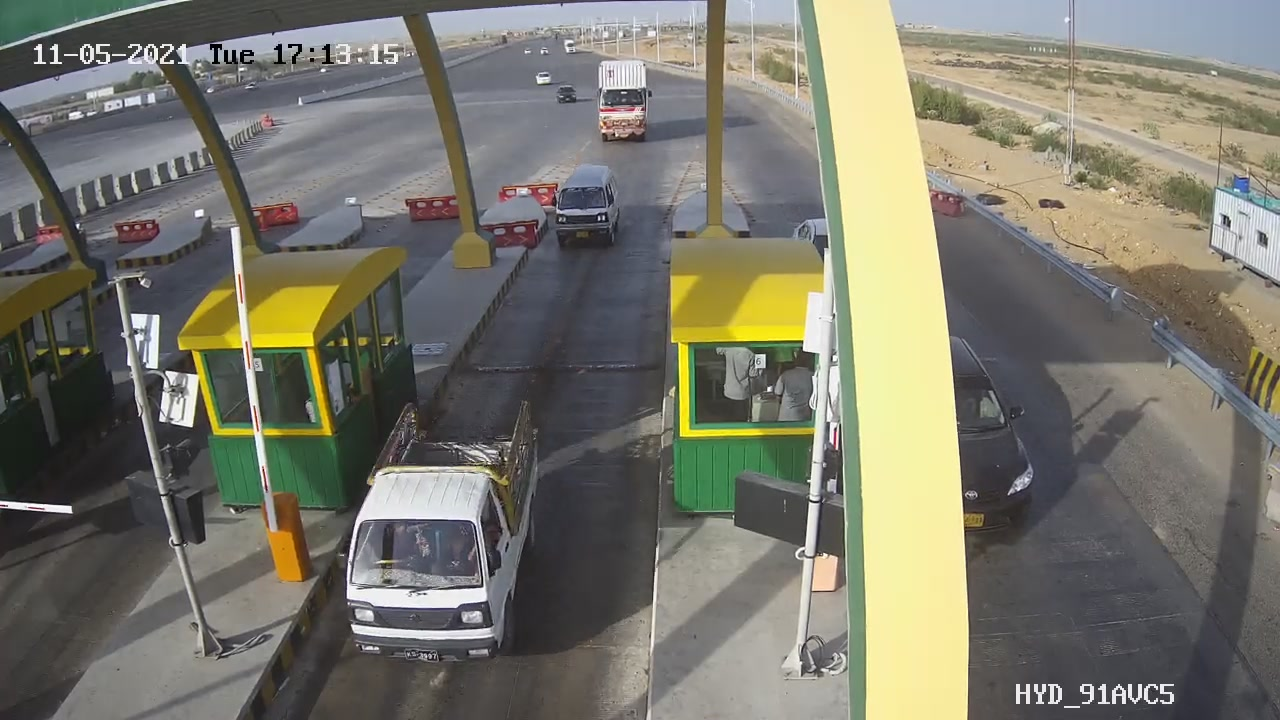F1: (537, 151, 638, 269)
